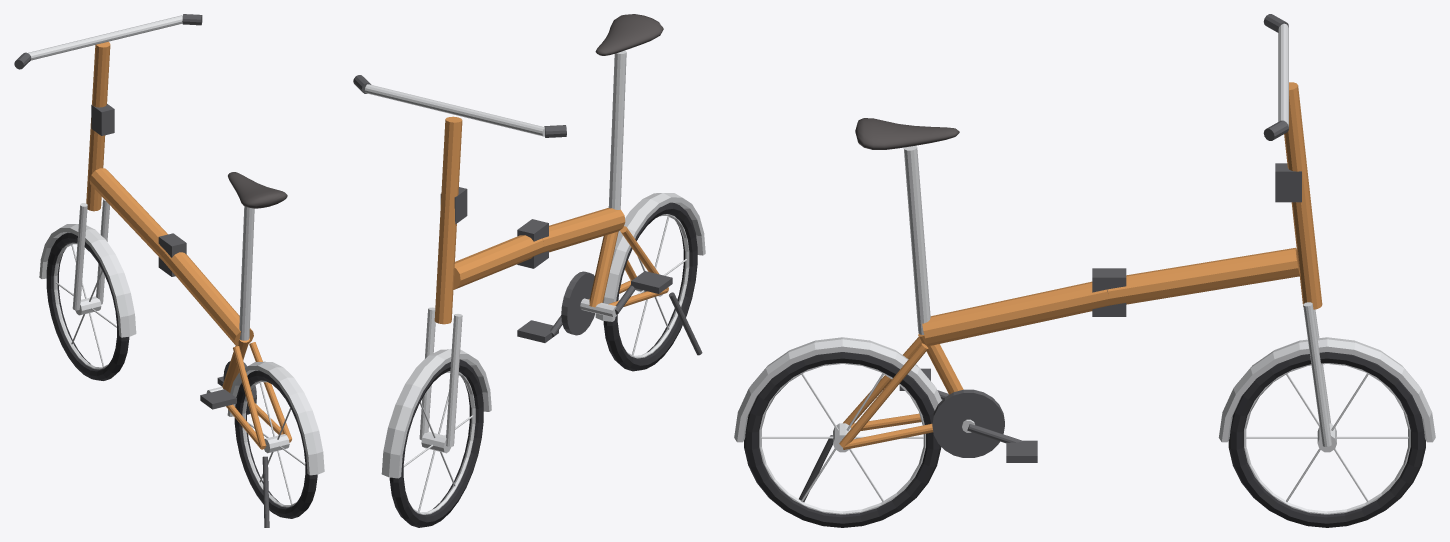
Rendered from bicycle_folding.glb.
3 views of the same model, side by side, from view 1: azimuth 30°, elevation 25°; view 2: azimuth 150°, elevation 25°; view 3: azimuth 270°, elevation 25° (orthographic). The views are drawn at different scales.
Parts seen in each view (by area): view 1: bk2_wf_fender, bk2_wf_tire, bk2_wr_fender, bk2_beam2, bk2_wr_tire, bk2_beam1, bk2_head, bk2_spost, bk2_bar, bk2_saddle, bk2_fork_r, bk2_cs0 (+9 smaller); view 2: bk2_head, bk2_wf_fender, bk2_wf_tire, bk2_wr_tire, bk2_wr_fender, bk2_beam1, bk2_beam2, bk2_spost, bk2_bar, bk2_saddle, bk2_chainring, bk2_fork_r (+11 smaller); view 3: bk2_wf_tire, bk2_wr_tire, bk2_beam1, bk2_beam2, bk2_wf_fender, bk2_head, bk2_chainring, bk2_wr_fender, bk2_spost, bk2_saddle, bk2_fork_l, bk2_wf_rim (+7 smaller).
Part boxes in pixels (x1=…): bk2_wf_fender: x1=39, y1=224, x2=136, y2=337; bk2_wf_tire: x1=46, y1=232, x2=129, y2=380; bk2_wr_fender: x1=227, y1=361, x2=324, y2=475; bk2_beam2: x1=163, y1=252, x2=253, y2=346; bk2_wr_tire: x1=234, y1=370, x2=317, y2=518; bk2_beam1: x1=89, y1=168, x2=167, y2=261; bk2_head: x1=86, y1=41, x2=110, y2=211; bk2_spost: x1=239, y1=206, x2=254, y2=340; bk2_bar: x1=28, y1=15, x2=182, y2=60; bk2_saddle: x1=228, y1=172, x2=287, y2=208; bk2_fork_r: x1=72, y1=203, x2=87, y2=310; bk2_cs0: x1=233, y1=346, x2=266, y2=447; bk2_head: x1=434, y1=116, x2=462, y2=324; bk2_wf_fender: x1=381, y1=349, x2=491, y2=478; bk2_wf_tire: x1=389, y1=359, x2=483, y2=527; bk2_wr_tire: x1=603, y1=202, x2=697, y2=371; bk2_wr_fender: x1=595, y1=193, x2=705, y2=321; bk2_beam1: x1=453, y1=235, x2=543, y2=289; bk2_beam2: x1=541, y1=208, x2=625, y2=253; bk2_spost: x1=608, y1=50, x2=626, y2=209; bk2_bar: x1=364, y1=84, x2=544, y2=136; bk2_saddle: x1=595, y1=14, x2=663, y2=55; bk2_chainring: x1=561, y1=271, x2=595, y2=335; bk2_fork_r: x1=446, y1=314, x2=462, y2=446; bk2_wf_tire: x1=1228, y1=352, x2=1425, y2=527; bk2_wr_tire: x1=744, y1=352, x2=941, y2=527; bk2_beam1: x1=1107, y1=247, x2=1300, y2=305; bk2_beam2: x1=922, y1=281, x2=1110, y2=346; bk2_wf_fender: x1=1218, y1=337, x2=1435, y2=442; bk2_head: x1=1284, y1=82, x2=1322, y2=309; bk2_chainring: x1=932, y1=389, x2=1004, y2=457; bk2_wr_fender: x1=734, y1=337, x2=941, y2=442; bk2_spost: x1=903, y1=145, x2=930, y2=334; bk2_saddle: x1=855, y1=118, x2=959, y2=149; bk2_fork_l: x1=1303, y1=302, x2=1331, y2=446; bk2_wf_rim: x1=1244, y1=363, x2=1410, y2=514.
Bounding box in the file's own units: 0.5768 × 1.04 × 1.45.
